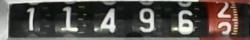digits: (170, 9, 194, 33), (60, 5, 79, 33), (137, 7, 156, 32), (99, 7, 116, 32), (214, 22, 234, 38), (26, 7, 35, 30)
